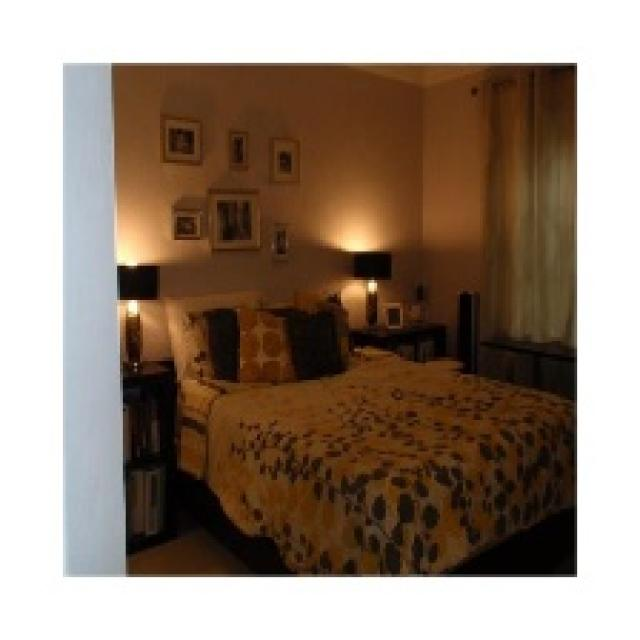Bed: (163, 289, 574, 574)
